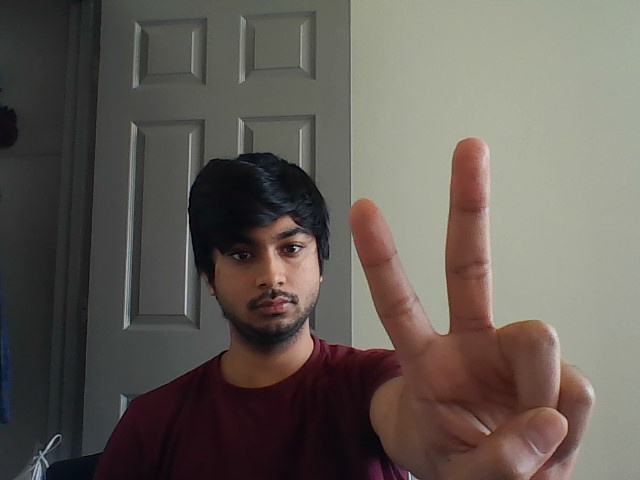two: (345, 125, 509, 354)
